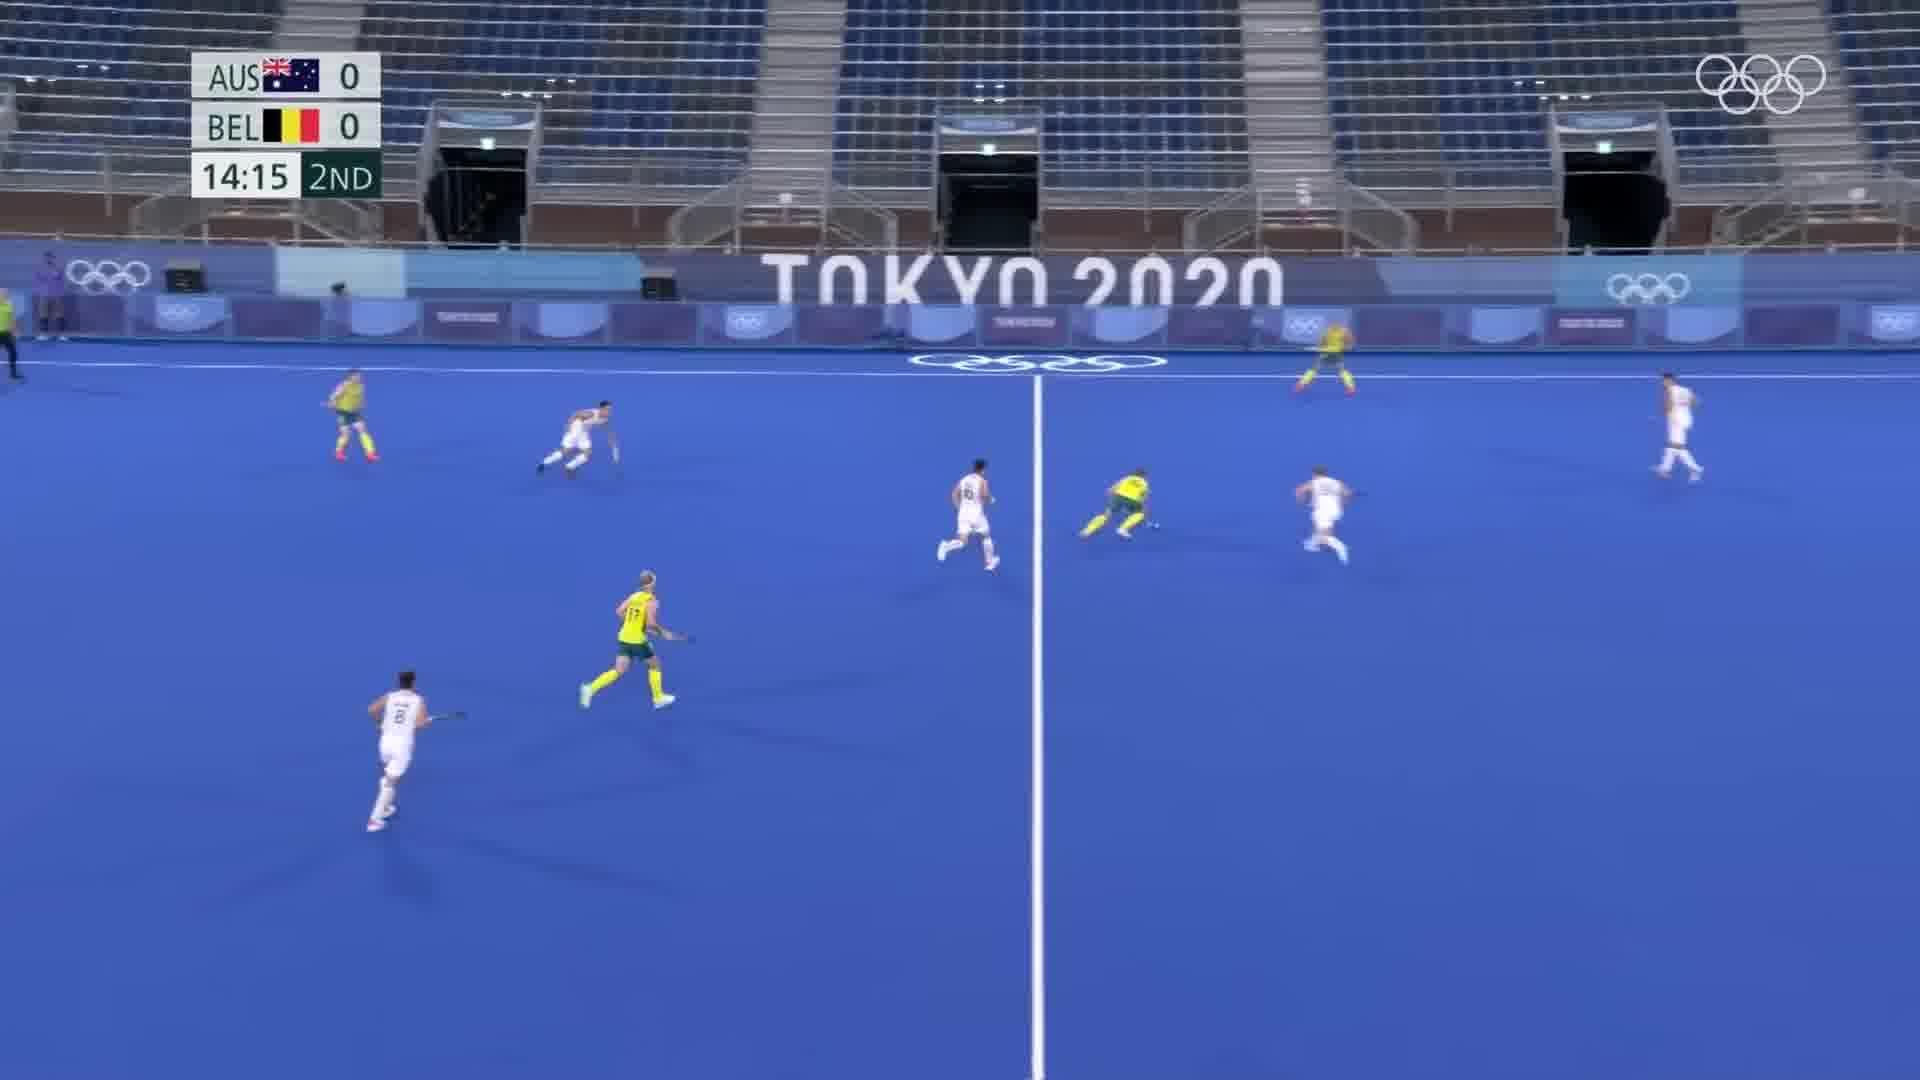ball: (1149, 517, 1164, 534)
